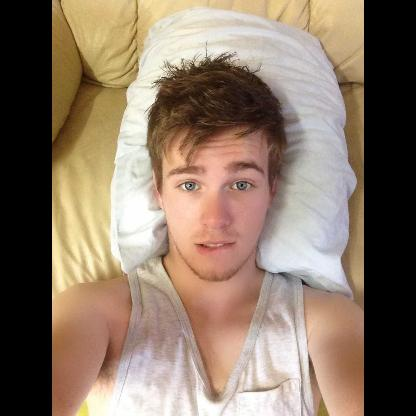Male: (152, 119, 279, 281)
